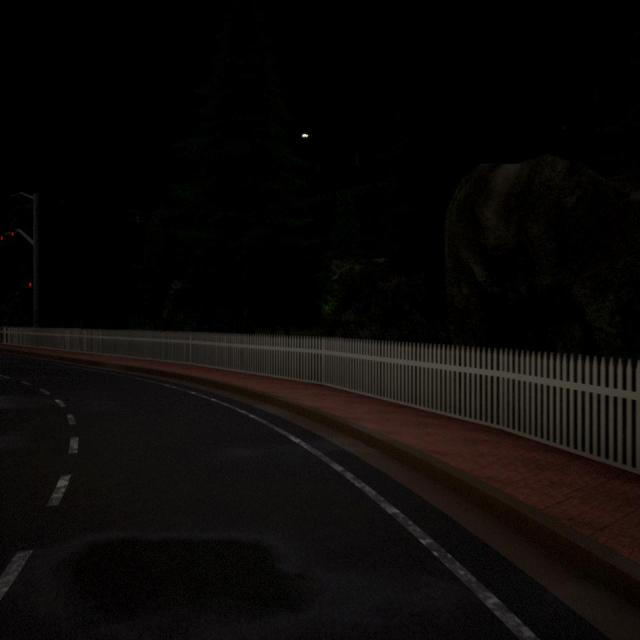traffic_light: (29, 282, 32, 288), (11, 232, 14, 236), (0, 236, 3, 240)
